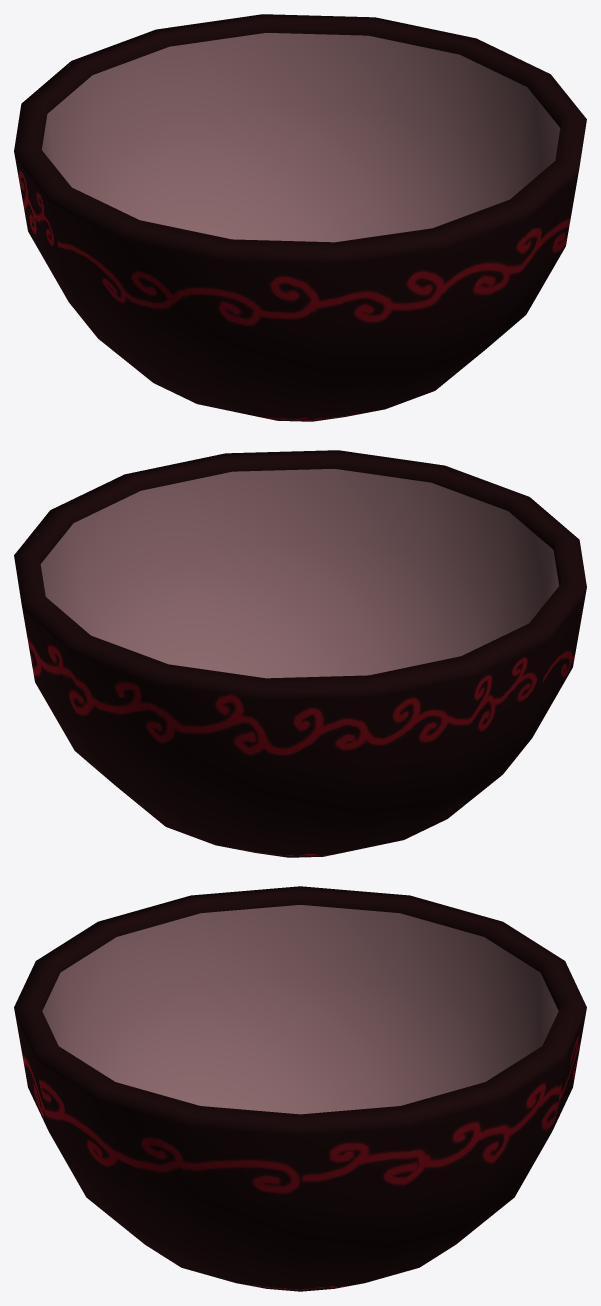
The model's file is zdjela fbx- negativni lik.fbx.
The picture shows the model from 3 angles, top to bottom: view 1: azimuth 30°, elevation 25°; view 2: azimuth 150°, elevation 25°; view 3: azimuth 270°, elevation 25°; orthographic projection.
Visible parts, largest first — view 1: zdjelica; view 2: zdjelica; view 3: zdjelica.
Part boxes in pixels (x1,y1,x2,y2): zdjelica: (14, 14, 586, 421); zdjelica: (14, 450, 586, 857); zdjelica: (14, 886, 586, 1291).
Size of the model in its own units: 53.11 by 25.62 by 53.11.
1 material, 1 textured.
